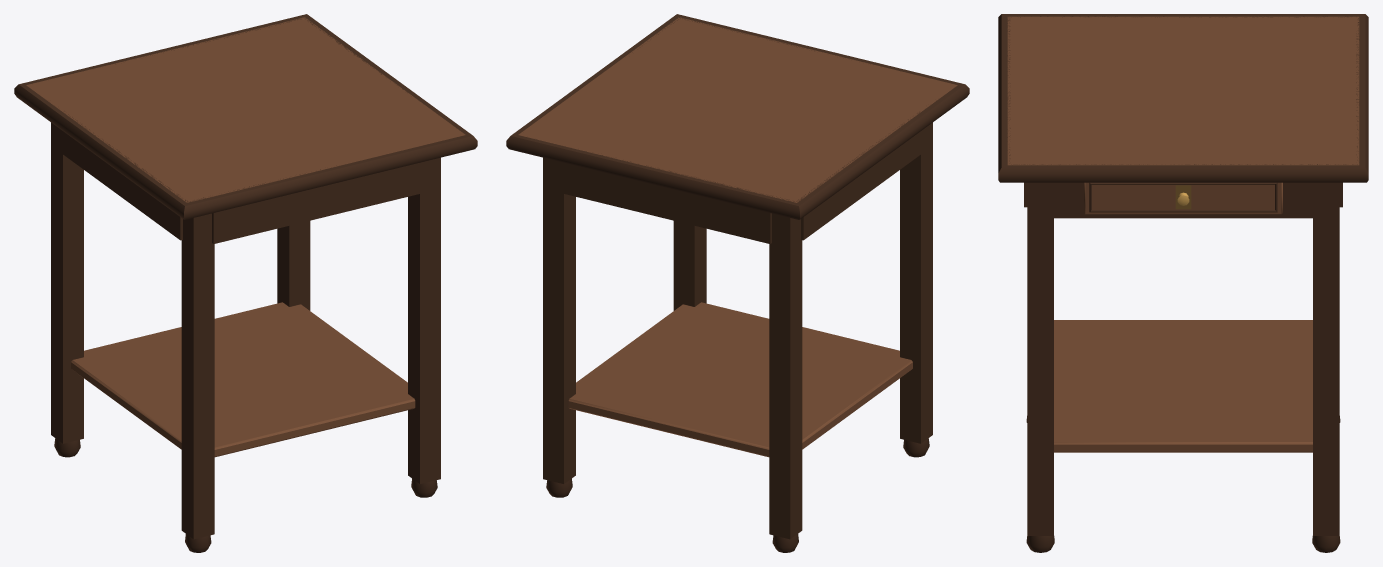
The model's file is side_table@2.glb.
The picture shows the model from 3 angles, left to right: view 1: azimuth 30°, elevation 25°; view 2: azimuth 150°, elevation 25°; view 3: azimuth 270°, elevation 25°; orthographic projection. The views are drawn at different scales.
Visible parts, largest first — view 1: walnut, walnut_d; view 2: walnut, walnut_d; view 3: walnut, walnut_d.
Part boxes in pixels (<box>): walnut: <box>26,17,465,457</box>; walnut_d: <box>14,14,477,552</box>; walnut: <box>518,17,957,457</box>; walnut_d: <box>506,14,969,552</box>; walnut: <box>1007,16,1359,452</box>; walnut_d: <box>998,14,1368,552</box>.
Bounding box in the file's own units: 0.558 × 0.66 × 0.558.
